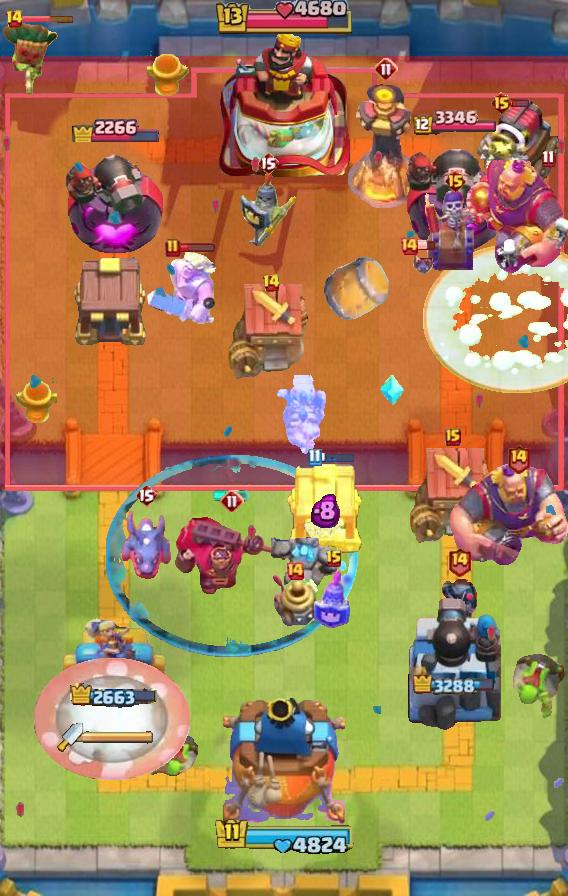bar: (61, 615, 166, 731)
bar-level: (510, 651, 568, 723), (145, 731, 199, 779)
barbarian-barrel: (411, 249, 437, 279)
battle-ram: (438, 577, 480, 621)
bomb: (69, 254, 149, 348), (285, 460, 365, 554)
clock: (210, 816, 358, 858), (213, 0, 355, 38)
dirt: (321, 253, 391, 323)
electro-dragon: (347, 82, 425, 208)
electro-spirit: (312, 492, 341, 527)
emote: (21, 13, 75, 22), (180, 243, 217, 254), (319, 453, 355, 464), (416, 241, 436, 252), (510, 98, 530, 108)
goblin-barrel: (0, 19, 60, 95)
goblin-drill: (268, 571, 322, 629)
goblin-hut: (143, 247, 221, 329)
golem: (475, 99, 561, 183)
graveyard: (119, 509, 173, 581)
ice-spirit: (212, 490, 252, 502)
inferno-tower: (171, 514, 293, 598)
king-tower: (218, 27, 350, 181), (223, 698, 345, 826)
king-tower-bar: (83, 730, 155, 744)
lightning: (448, 463, 568, 569), (464, 160, 568, 278)
mini-pekka: (273, 375, 329, 459)
pad_0: (106, 454, 358, 658)
pad_2: (379, 374, 405, 406)
phoenix-big: (424, 244, 568, 393)
princess: (239, 170, 297, 250), (311, 569, 357, 629)
selected: (68, 112, 159, 142), (69, 683, 158, 710), (410, 111, 496, 138), (414, 675, 495, 697)
skeleton-king-bar: (424, 182, 486, 274)
sparky: (228, 283, 314, 381), (410, 447, 496, 545)
text: (506, 443, 531, 474), (447, 546, 472, 577), (374, 57, 398, 81), (220, 489, 244, 513), (491, 91, 514, 115), (445, 169, 468, 193), (257, 151, 279, 175), (135, 483, 157, 507), (4, 9, 24, 29), (399, 236, 419, 256), (285, 561, 305, 581), (262, 273, 281, 293), (325, 549, 343, 569), (165, 238, 181, 258), (445, 428, 461, 446), (541, 148, 556, 167), (307, 449, 321, 468)
tower-bar: (405, 595, 501, 731), (401, 138, 505, 256), (64, 138, 164, 256)
valkyrie-evolution: (271, 536, 343, 606)
wall-breaker: (34, 658, 190, 780)
